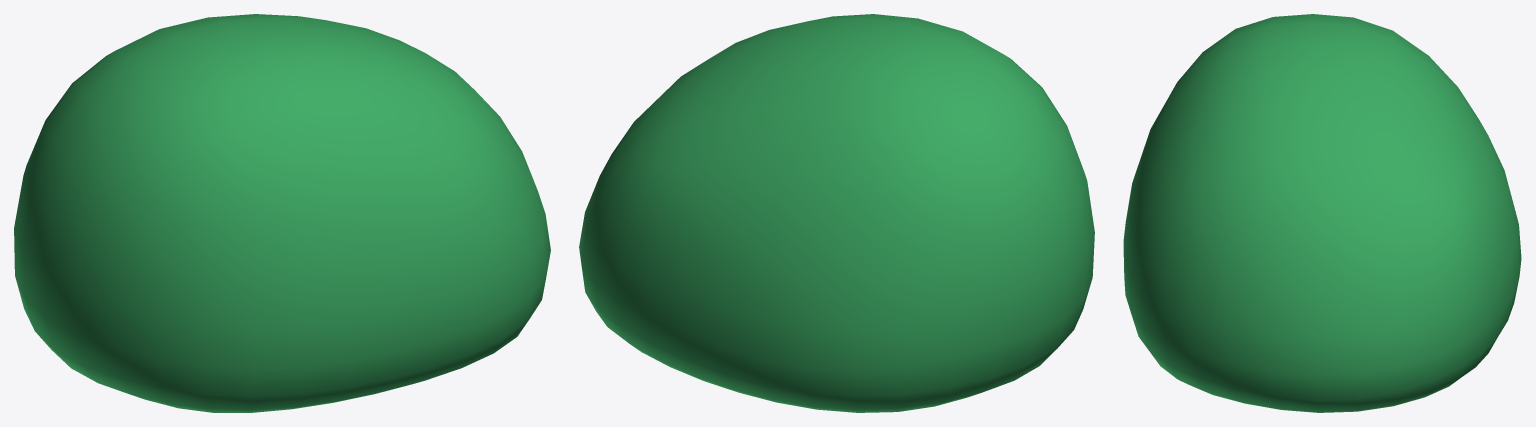
File: Bush_D_02.fbx
3 views of the same model, side by side, from view 1: azimuth 30°, elevation 25°; view 2: azimuth 150°, elevation 25°; view 3: azimuth 270°, elevation 25° (orthographic). The views are drawn at different scales.
Visible parts, largest first — view 1: Bush_D_02_LOD0; view 2: Bush_D_02_LOD0; view 3: Bush_D_02_LOD0.
Part boxes in pixels (bbox=[...]): Bush_D_02_LOD0: bbox=[14, 14, 550, 412]; Bush_D_02_LOD0: bbox=[579, 14, 1094, 412]; Bush_D_02_LOD0: bbox=[1123, 14, 1521, 412].
Size of what is drawn, in the model's own units: 517 by 329 by 424.
